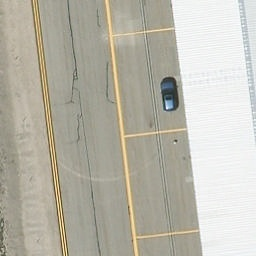car: (163, 80, 179, 111)
